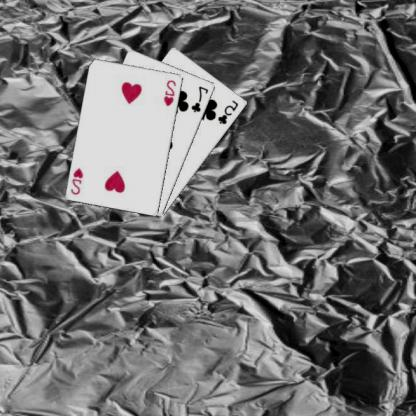2H: (70, 165, 86, 196), (163, 77, 179, 107)
5C: (217, 97, 242, 126)
7C: (190, 83, 212, 114)
